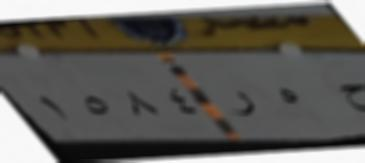1: (40, 86, 71, 129)
4: (168, 85, 201, 120)
5: (80, 90, 110, 123)
8: (125, 84, 160, 124)
haa: (277, 79, 303, 111)
raa: (227, 87, 259, 125)
